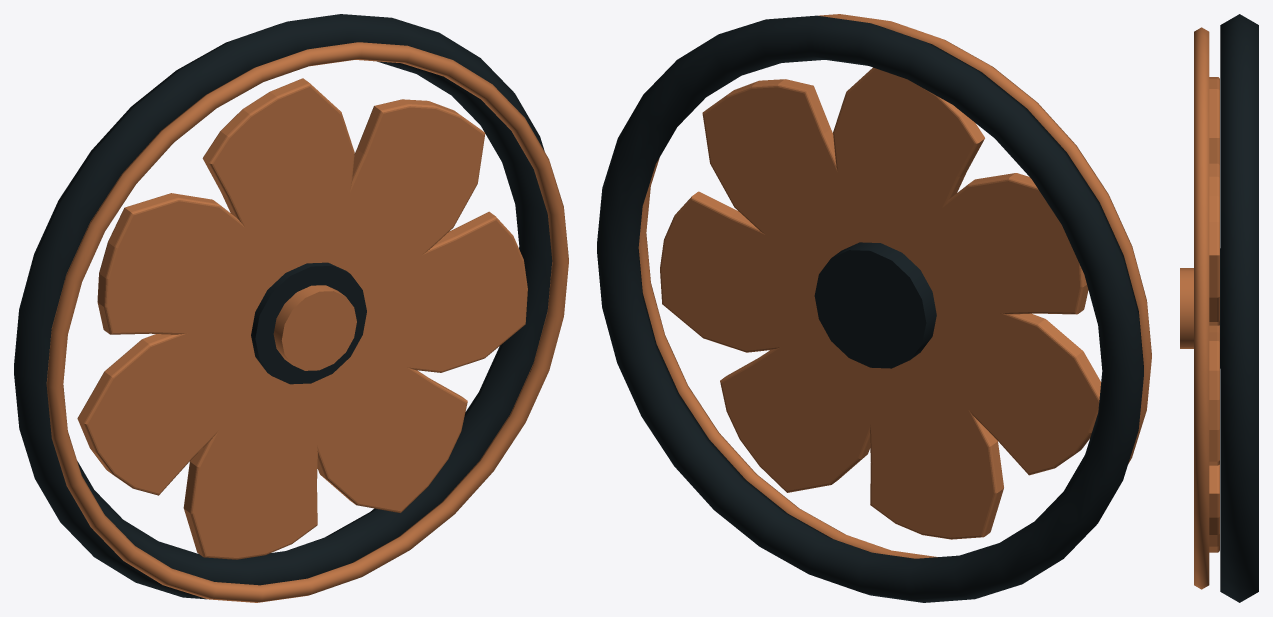
The model's file is gpu-fan-silent.glb.
The picture shows the model from 3 angles, left to right: view 1: azimuth 30°, elevation 25°; view 2: azimuth 150°, elevation 25°; view 3: azimuth 270°, elevation 25°; orthographic projection. The views are drawn at different scales.
Parts seen in each view (by area): view 1: gpu-fan-rotor, gpu-fan-silent; view 2: gpu-fan-rotor, gpu-fan-silent; view 3: gpu-fan-silent, gpu-fan-rotor.
Boxes of the visible parts, left/top/right/bottom form: gpu-fan-rotor: left=77, top=78, right=527, bottom=559; gpu-fan-silent: left=14, top=14, right=568, bottom=602; gpu-fan-rotor: left=660, top=67, right=1101, bottom=539; gpu-fan-silent: left=597, top=14, right=1151, bottom=602; gpu-fan-silent: left=1194, top=14, right=1258, bottom=602; gpu-fan-rotor: left=1180, top=77, right=1220, bottom=552.
Bounding box in the file's own units: 0.93 × 0.93 × 0.1243.
